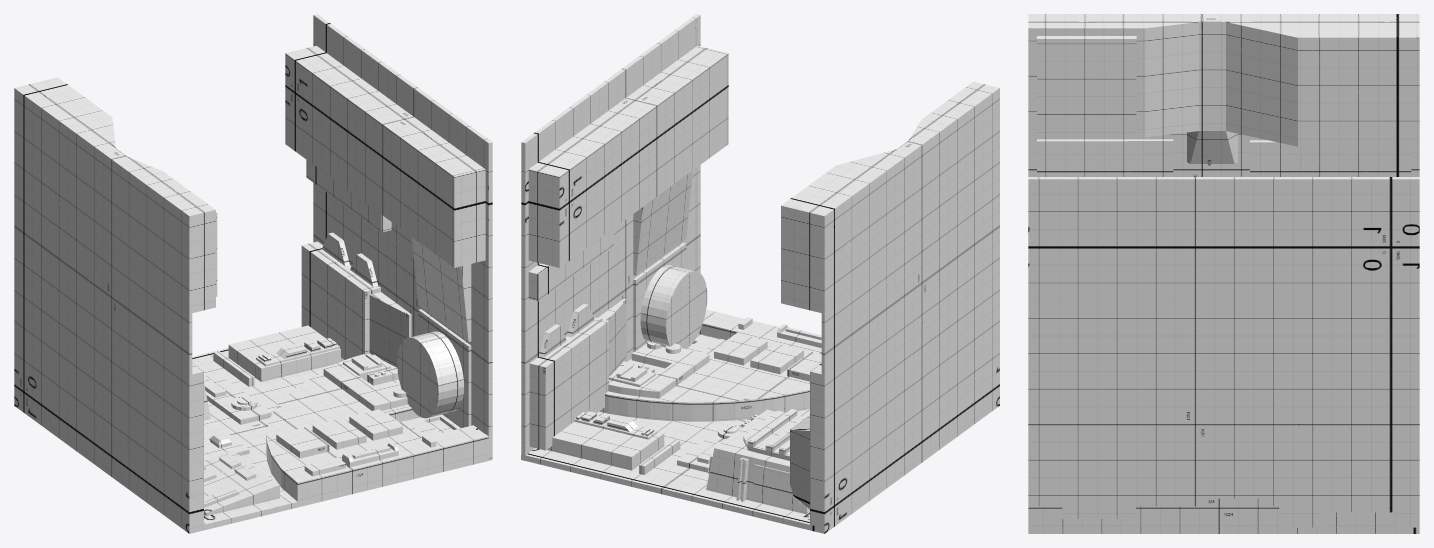
Rendered from Level1.fbx.
3 views of the same model, side by side, from view 1: azimuth 30°, elevation 25°; view 2: azimuth 150°, elevation 25°; view 3: azimuth 270°, elevation 25° (orthographic). The views are drawn at different scales.
Visible parts, largest first — view 1: 1.001; view 2: 1.001; view 3: 1.001.
Boxes of the visible parts, x1,y1,x2,y2 form: 1.001: (14,14,492,533); 1.001: (521,14,999,533); 1.001: (1028,14,1419,533).
Size of the model in its own units: 7500 by 7500 by 7500.
